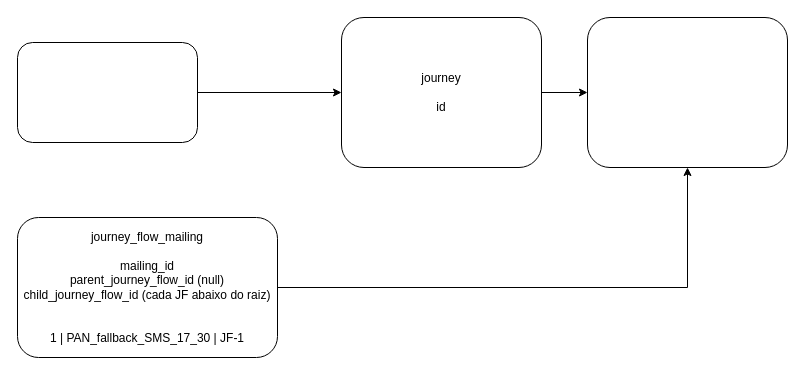
Some shapes in this 805 by 375 pixel diagram are drawn without their labels. The centre of each missing label's shape, as x and y in pixels:
"journey_fallback brand_id application_id journey_id" goes at (x=107, y=92).
"journey_flow id" goes at (x=687, y=92).
